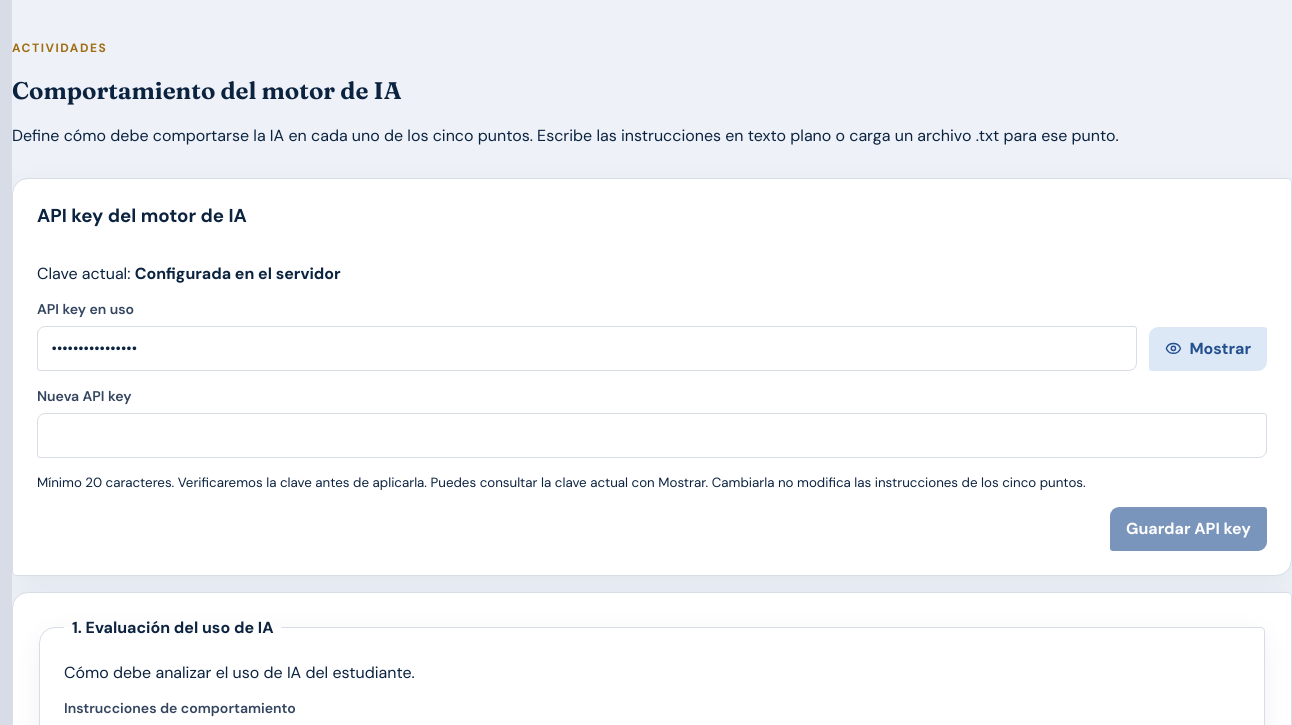
Scenario: AdminAiSettings › keeps the key hidden and reports reveal failures without exposing technical details
Click the button with class "ai-reveal-key": x=1208, y=349 [1149,327,1267,371]
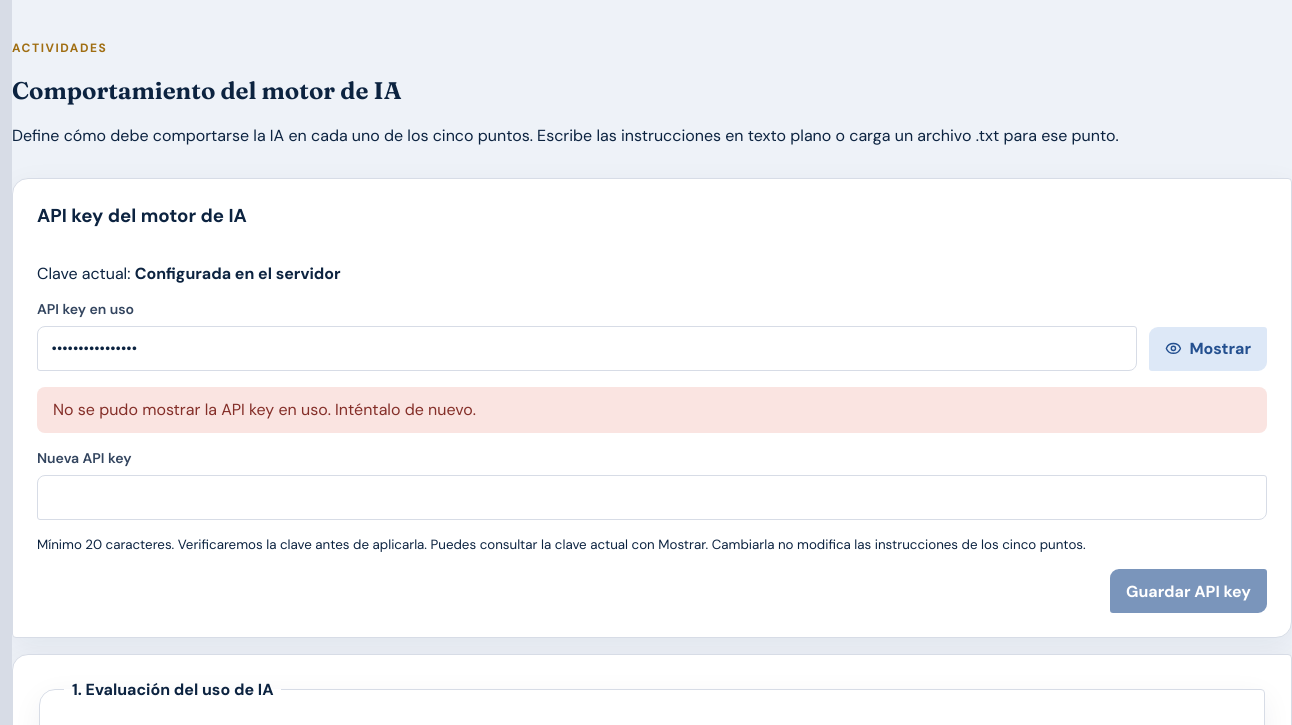
Now the message "No se pudo mostrar la API key en uso. Inténtalo de nuevo." is shown, box [37,387,1267,433]
